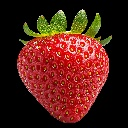strawberry: (15, 10, 112, 124)
